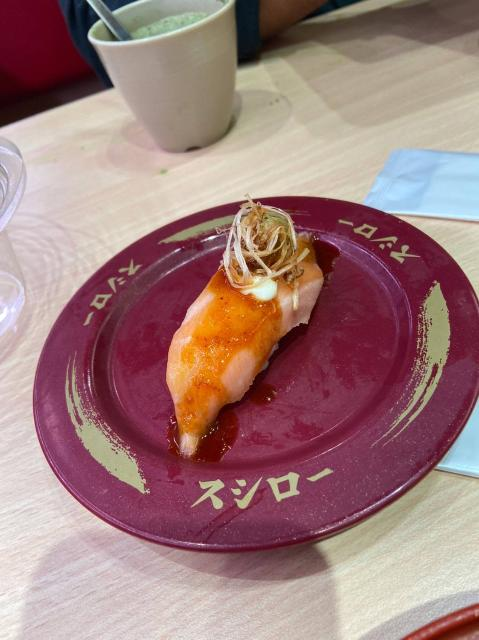janred: (67, 223, 472, 538), (390, 599, 479, 640)
